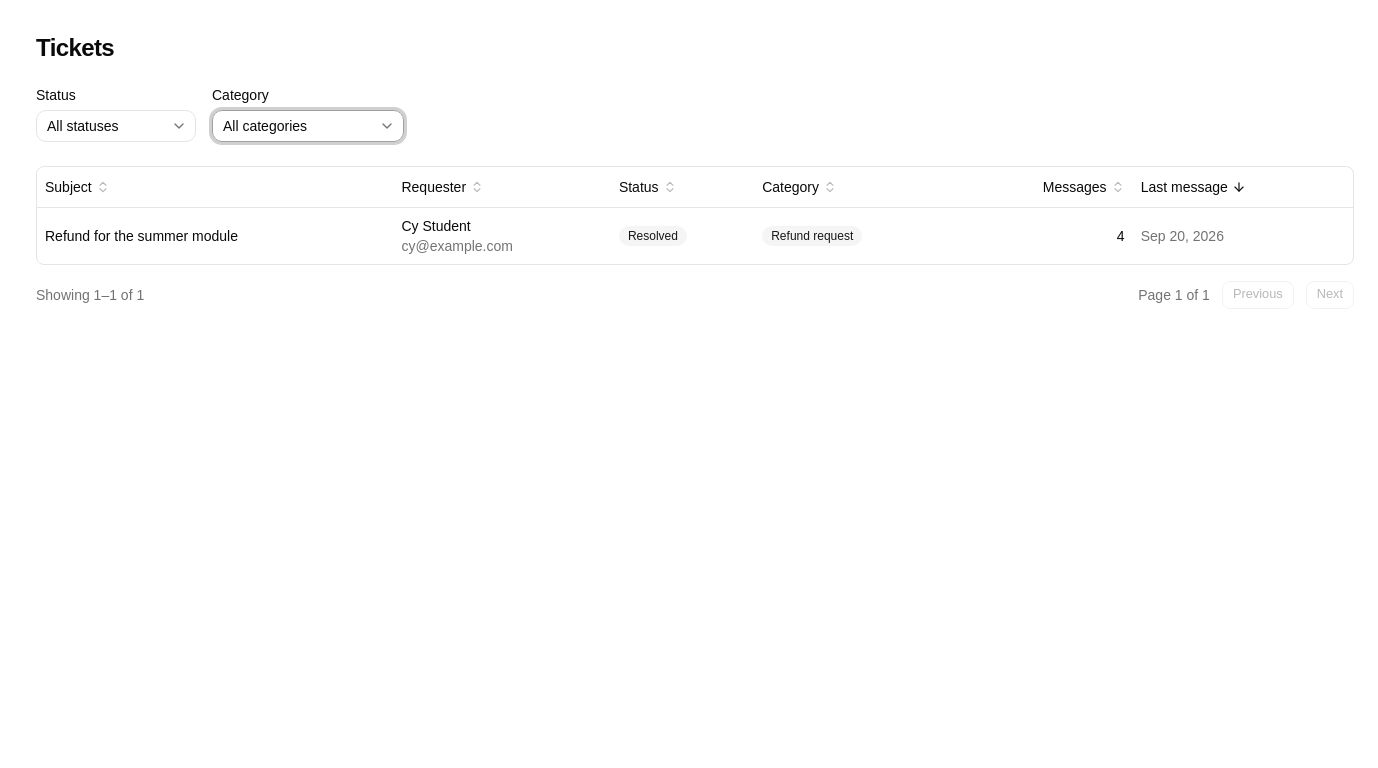
Test: TicketsPage › filters by category through the select
The width and height of the screenshot is (1378, 768).
Press Arrowdown
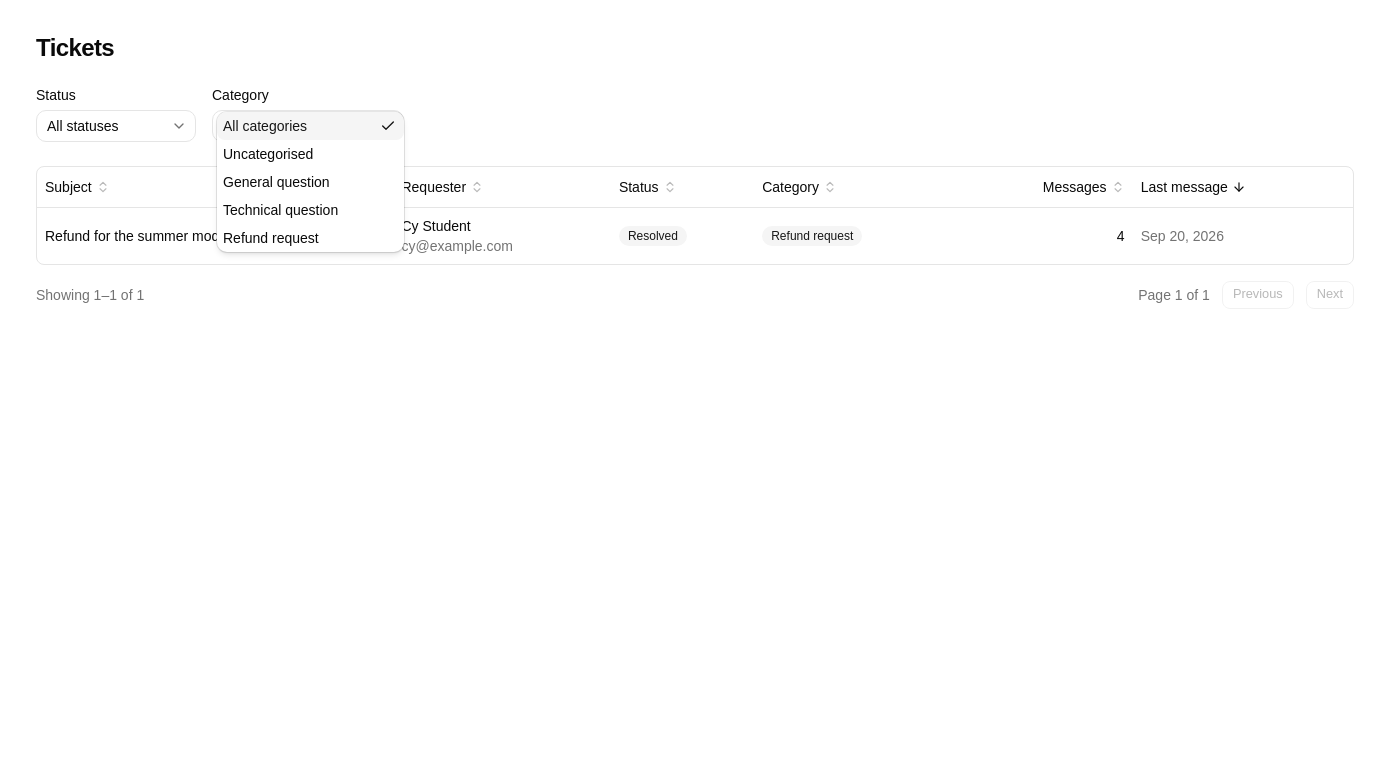
Click the option "Refund request".
click(271, 238)  # box x1=223 y1=230 x2=319 y2=246
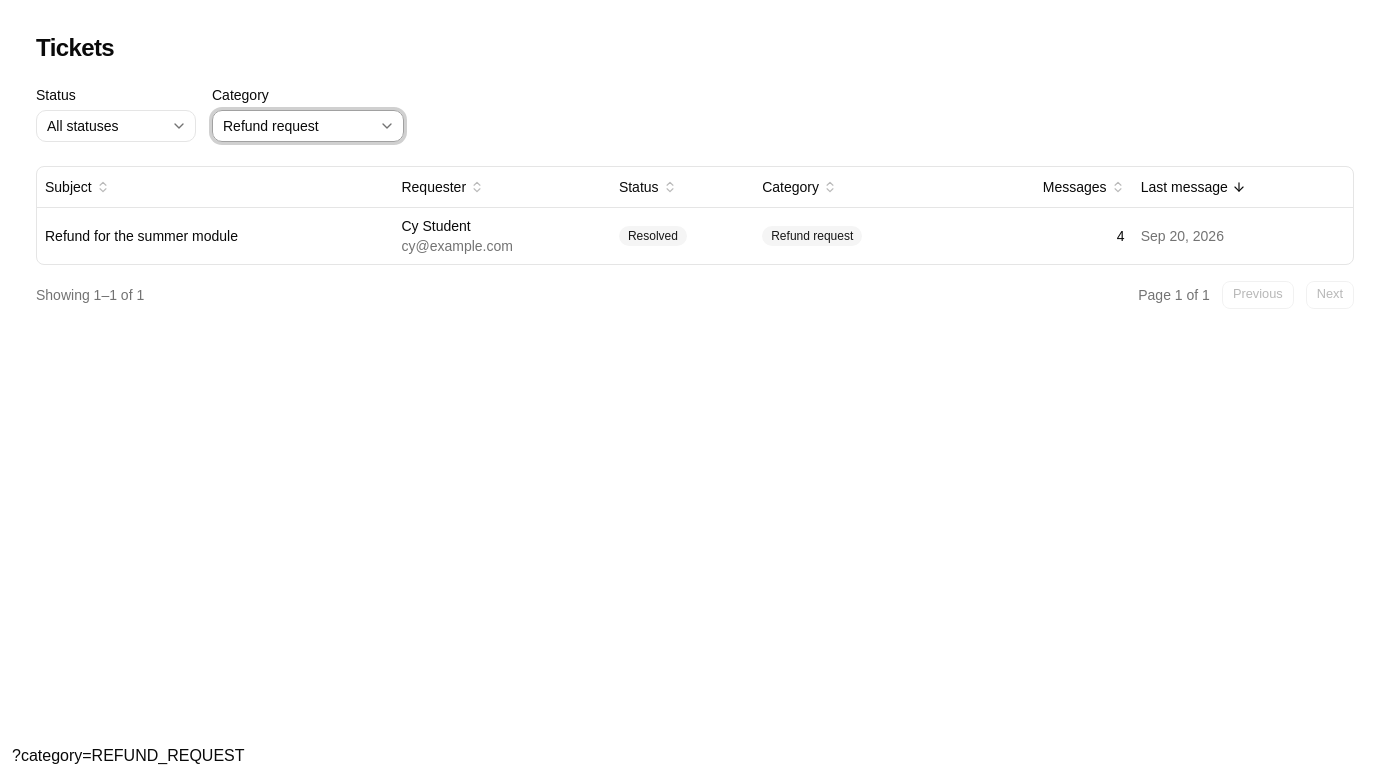
Expected: the text with test id "location-search" reads "?category=REFUND_REQUEST", x1=12 y1=747 x2=244 y2=764
